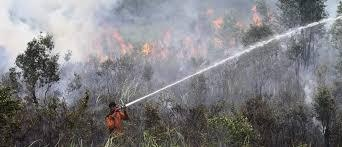fire: (93, 28, 199, 63), (248, 3, 264, 27)
